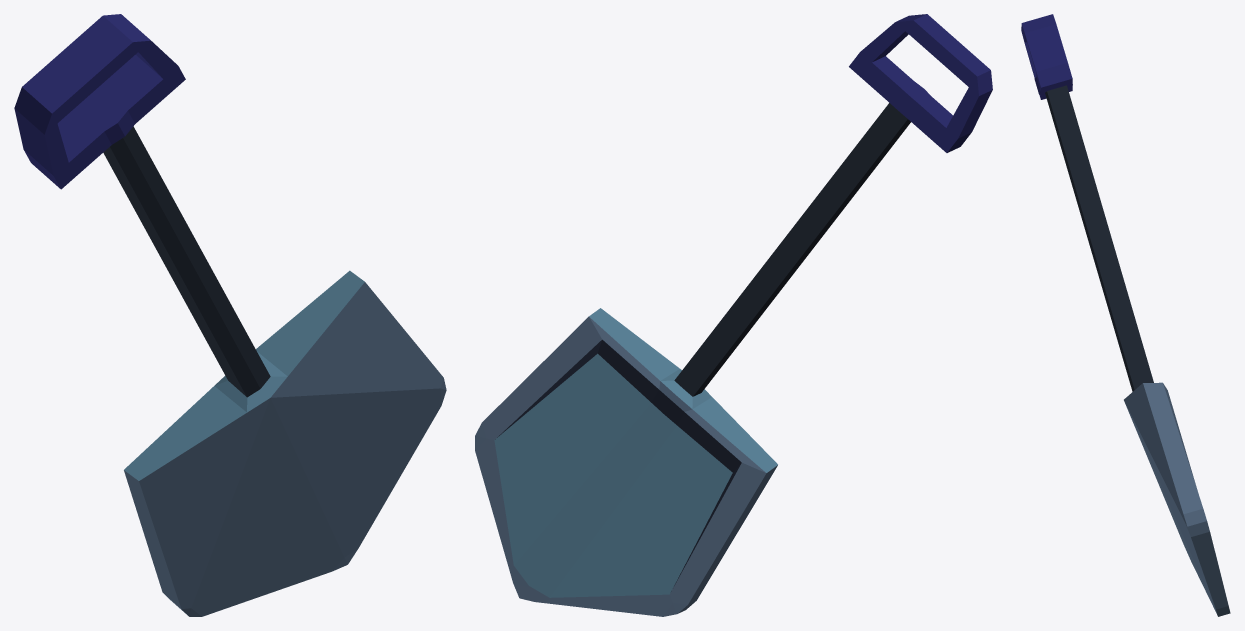
File: shovel.fbx
The picture shows the model from 3 angles, left to right: view 1: azimuth 30°, elevation 25°; view 2: azimuth 150°, elevation 25°; view 3: azimuth 270°, elevation 25°; orthographic projection. The views are drawn at different scales.
Visible parts, largest first — view 1: shovel; view 2: shovel; view 3: shovel.
Part boxes in pixels (x1,y1,x2,y2): shovel: (14,14,446,616); shovel: (475,14,992,616); shovel: (1021,14,1230,616).
Size of the model in its own units: 127 by 167 by 65.23.
